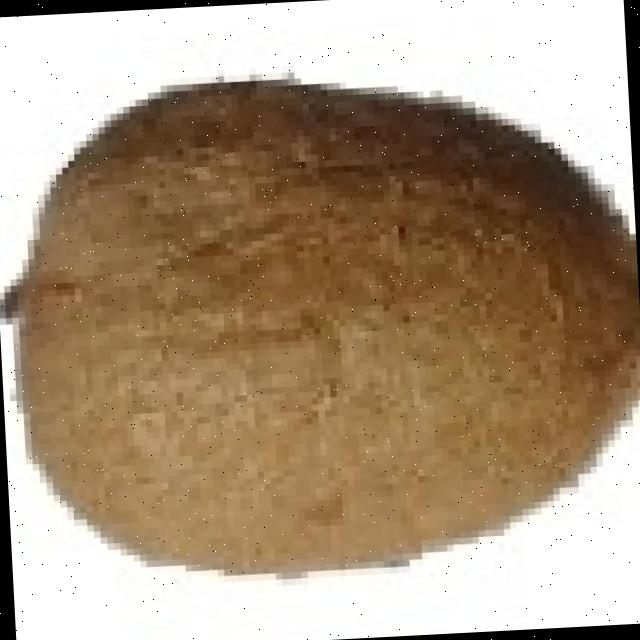kiwi: (0, 94, 632, 581)
